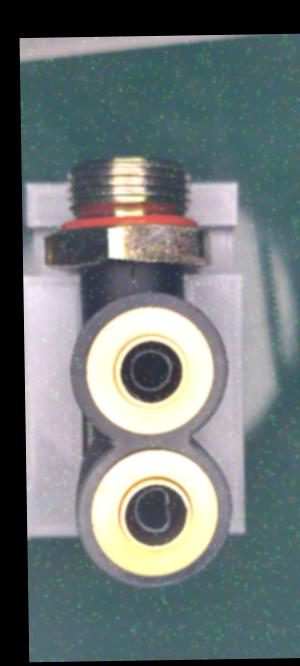craze: (127, 259, 141, 283)
off-centered: (125, 482, 185, 537)
